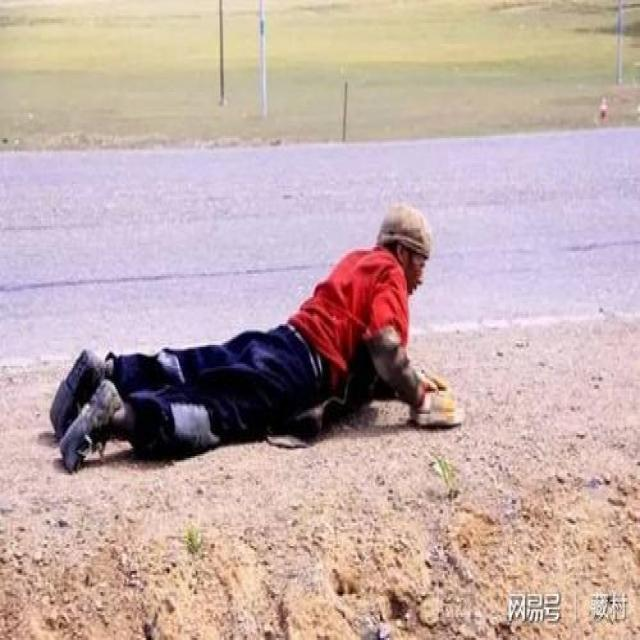down: (42, 200, 471, 473)
